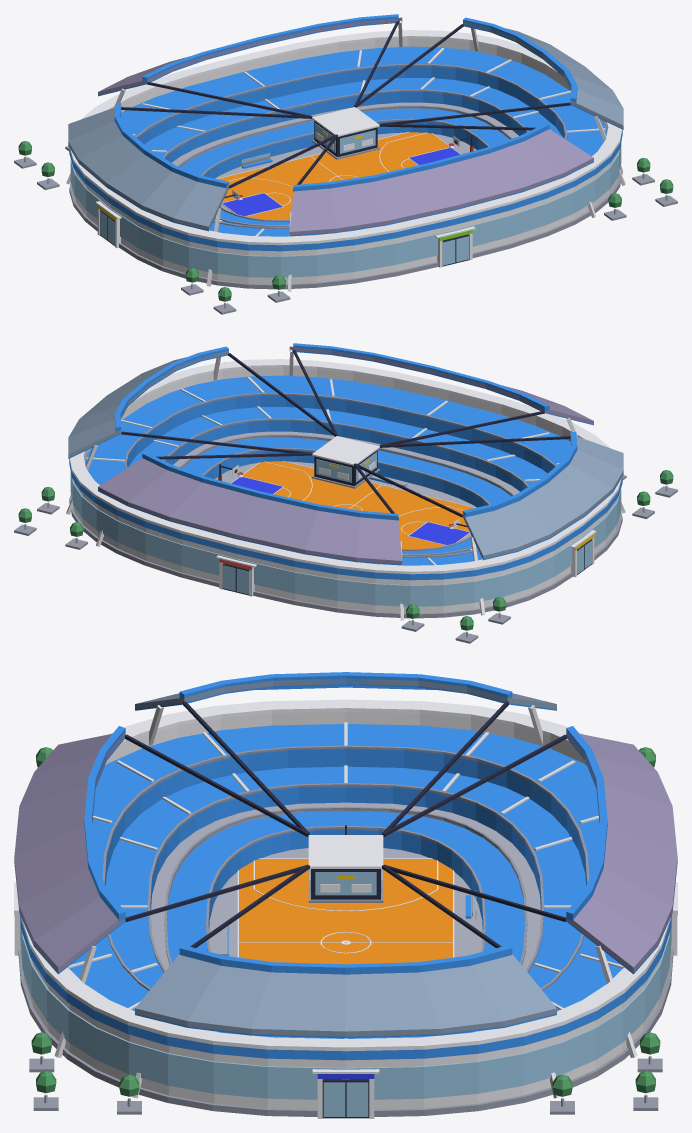
Rendered from basketball-arena-10x8-tone-a.glb.
3 renders of one model, top to bottom at view 1: azimuth 30°, elevation 25°; view 2: azimuth 150°, elevation 25°; view 3: azimuth 270°, elevation 25°, orthographic. The views are drawn at different scales.
Visible parts, largest first — view 1: basketball-arena-10x8-tone-a; view 2: basketball-arena-10x8-tone-a; view 3: basketball-arena-10x8-tone-a.
Part boxes in pixels (x1,y1,x2,y2): basketball-arena-10x8-tone-a: (14,14,677,314); basketball-arena-10x8-tone-a: (14,343,677,643); basketball-arena-10x8-tone-a: (14,672,677,1118).
Size of the model in its own units: 9.97 by 1.67 by 7.97.
1 material, 1 textured.
